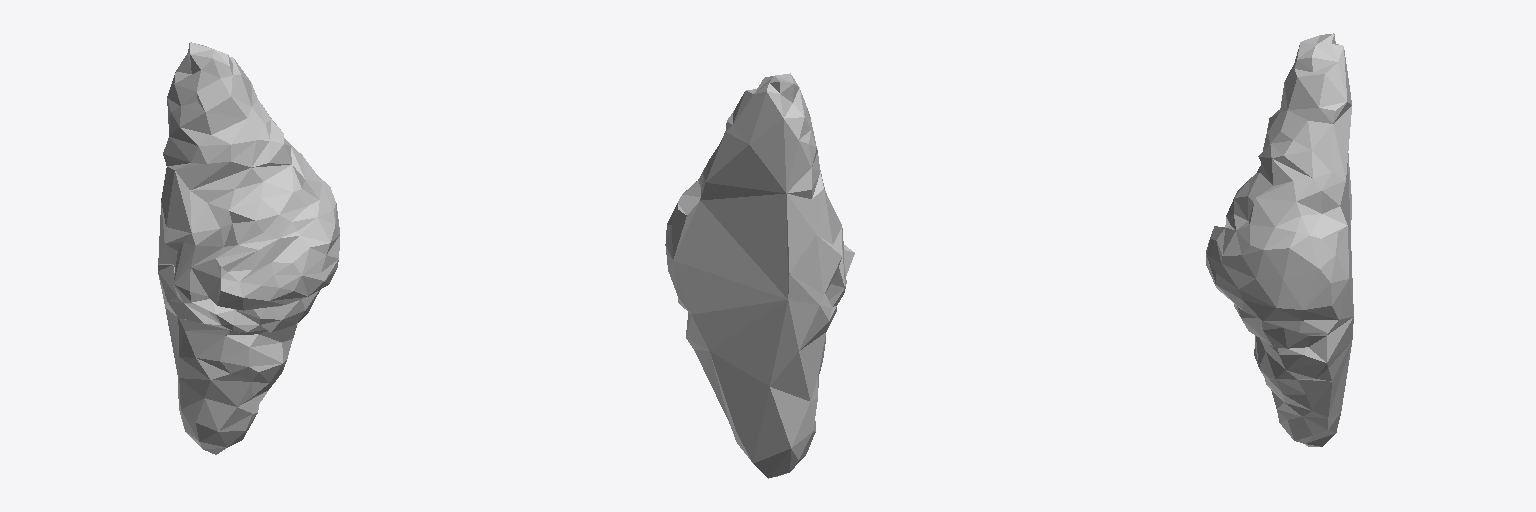
The model's file is croissant_02_L1.obj.
3 renders of one model, left to right at view 1: azimuth 30°, elevation 25°; view 2: azimuth 150°, elevation 25°; view 3: azimuth 270°, elevation 25°, orthographic.
Visible parts, largest first — view 1: croissant_02_L1; view 2: croissant_02_L1; view 3: croissant_02_L1.
Part boxes in pixels (x1,y1,x2,y2): croissant_02_L1: (158, 42, 339, 454); croissant_02_L1: (665, 73, 854, 478); croissant_02_L1: (1206, 33, 1353, 446).
Bounding box in the file's own units: 2.77 × 6.5 × 2.14.